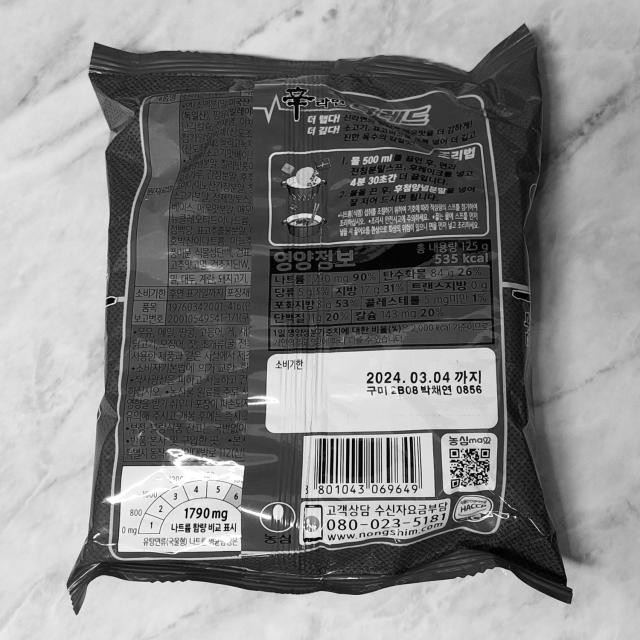Nutrition Label: (262, 239, 518, 362)
